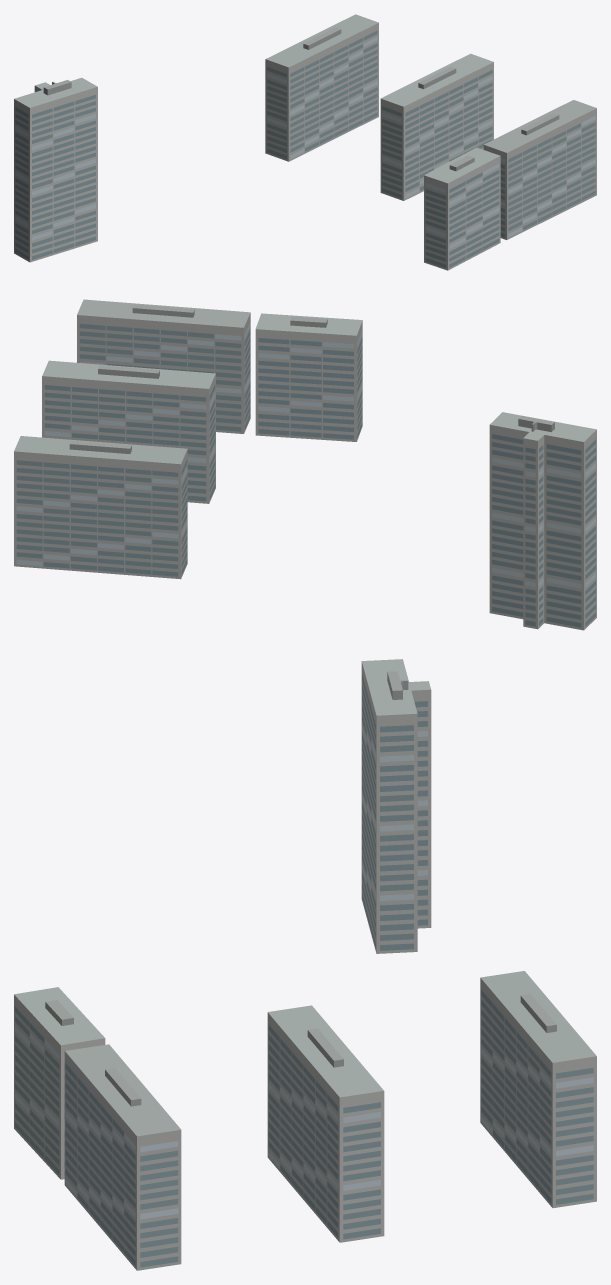
File: apt-a13204402.glb
3 views of the same model, one above another, from view 1: azimuth 30°, elevation 25°; view 2: azimuth 150°, elevation 25°; view 3: azimuth 270°, elevation 25° (orthographic). The views are drawn at different scales.
Parts seen in each view (by area): view 1: apt-a13204402; view 2: apt-a13204402; view 3: apt-a13204402.
Boxes of the visible parts, <box> form: apt-a13204402: <box>14,14,596,270</box>; apt-a13204402: <box>14,299,596,630</box>; apt-a13204402: <box>14,659,596,1270</box>.
Bounding box in the file's own units: 211 × 65 × 139.
